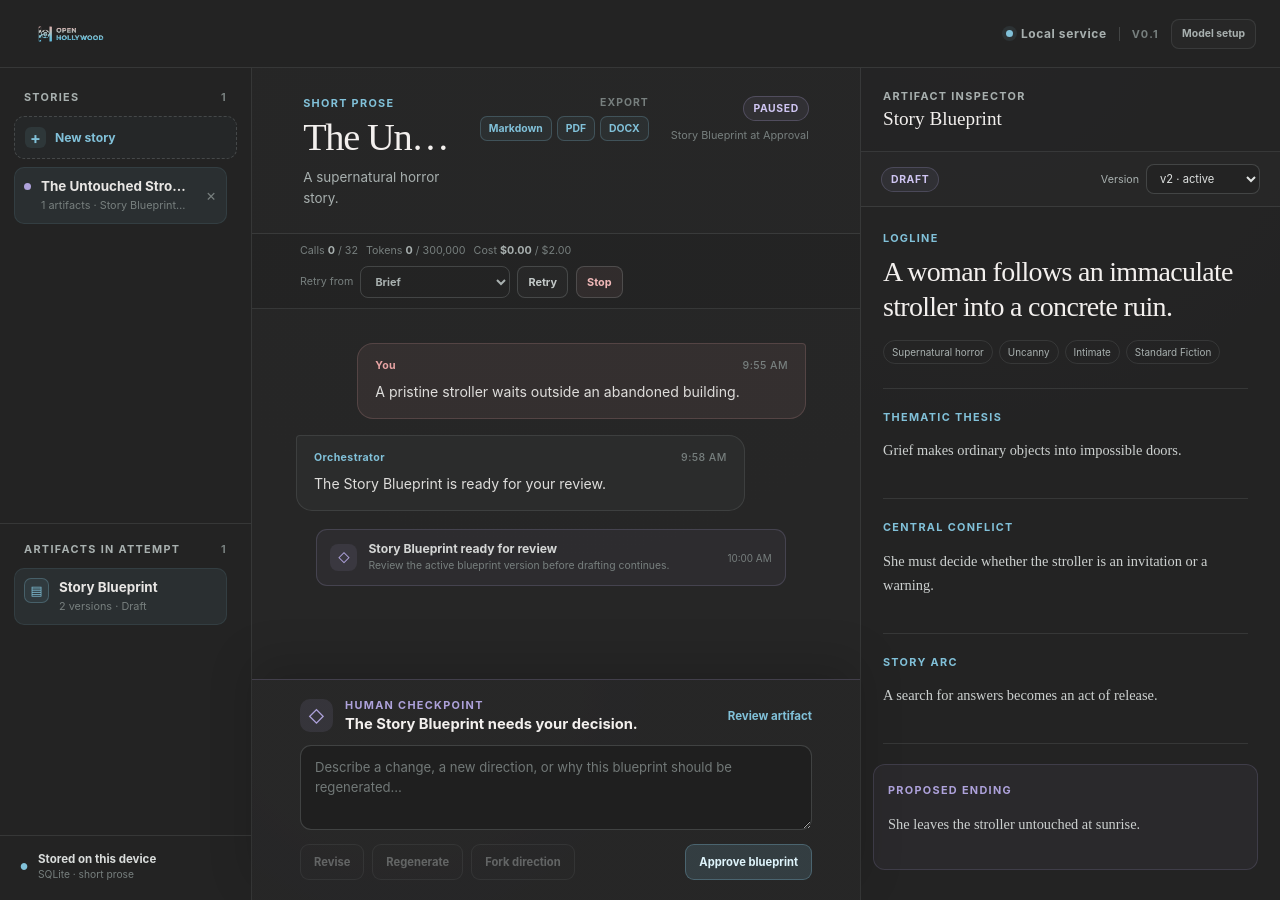
Test: App › follows production after approval and preserves manual run selection
Click the button "Approve blueprint": (749, 862) [685, 844, 812, 880]
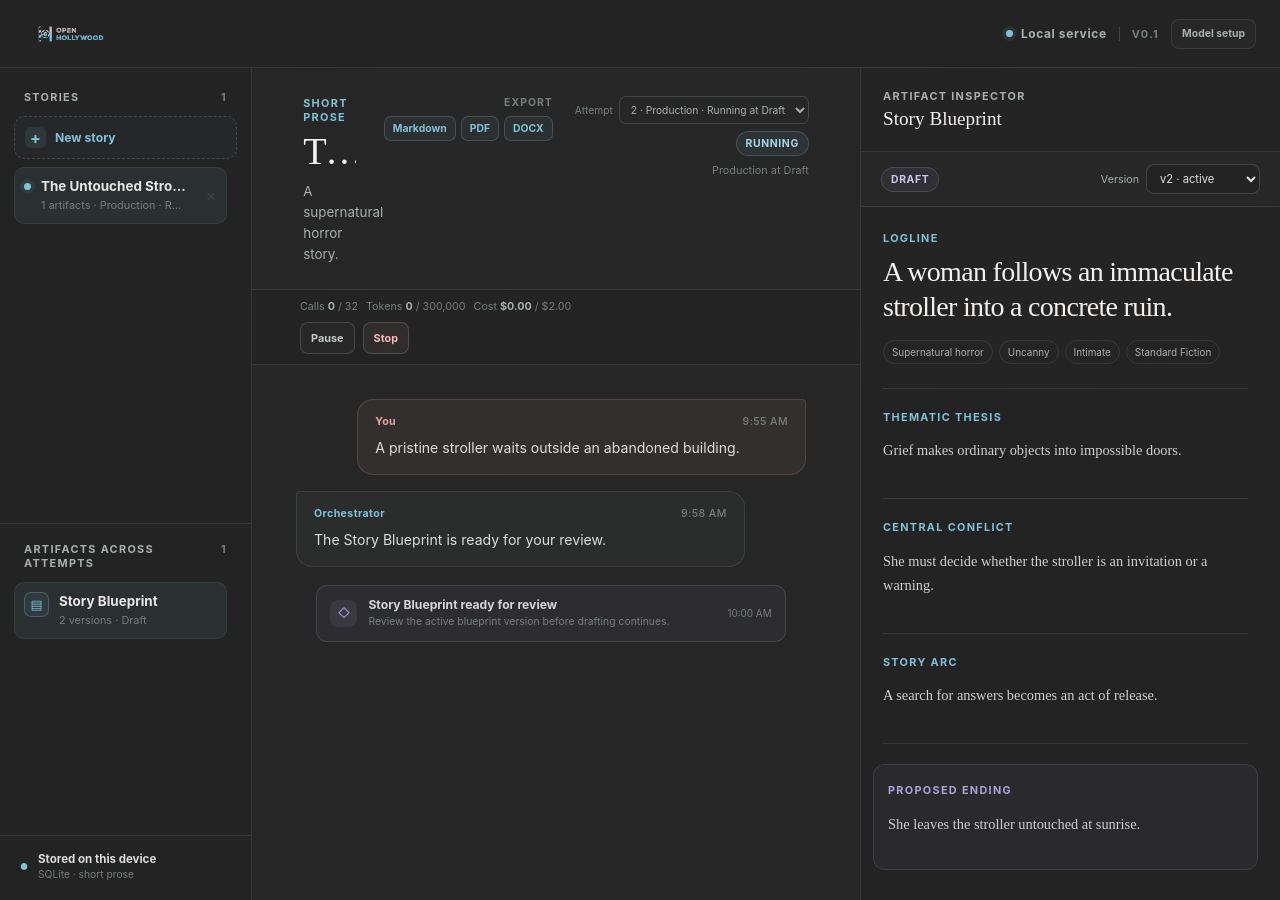
expect the dropdown named "Workflow attempt" shows "2 · Production · Running at Draft": met
expect the text "Production at Draft" is shown: met, box [712, 163, 809, 177]
expect the button "The Untouched Stroller" shows "Production · Running at Draft": met, box [14, 167, 197, 224]
Select "1 · Story Blueprint · Succeeded at Approval" in the dropdown named "Workflow attempt": (714, 110) [619, 96, 809, 124]
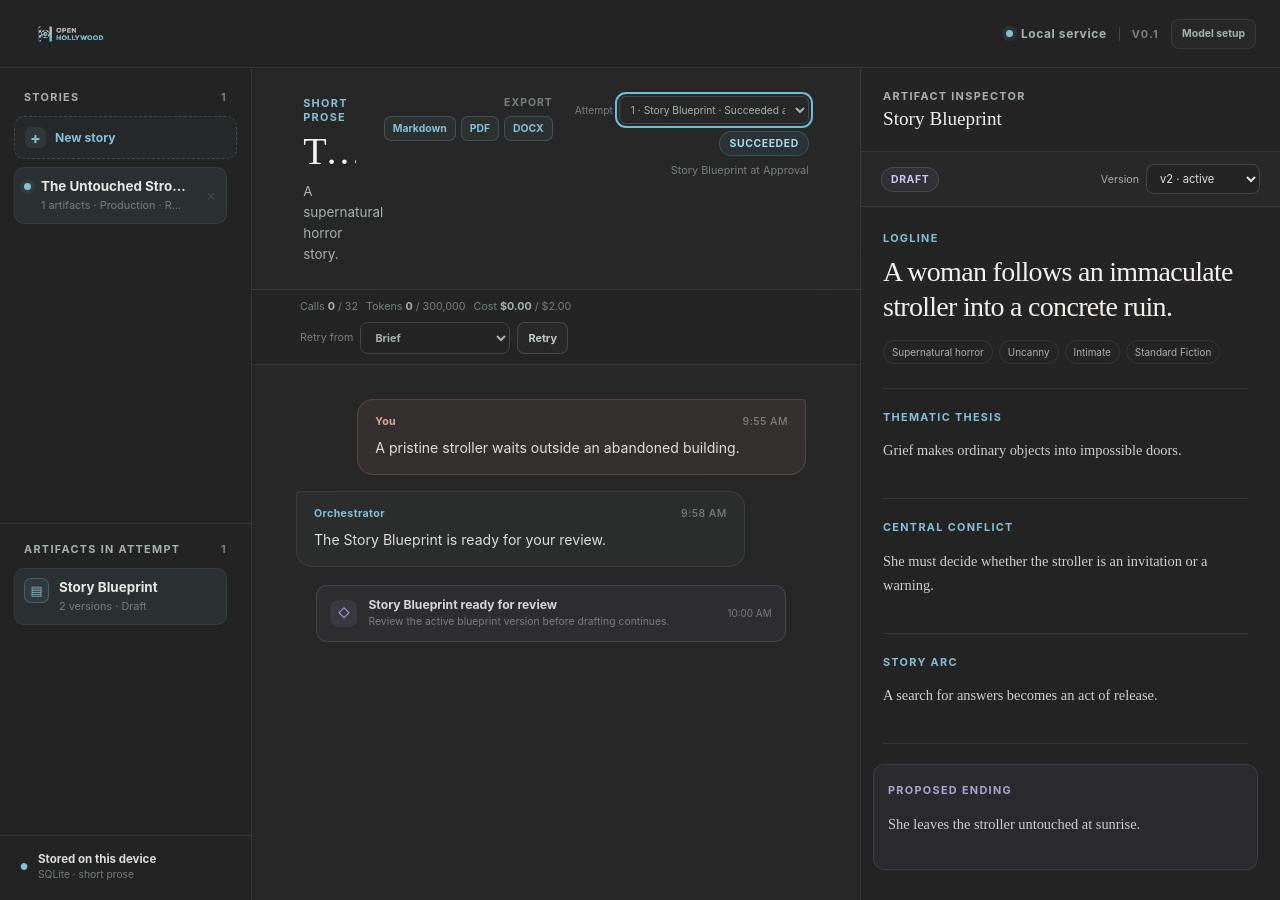
expect the text "Story Blueprint at Approval" is shown: met, box [671, 163, 809, 177]
